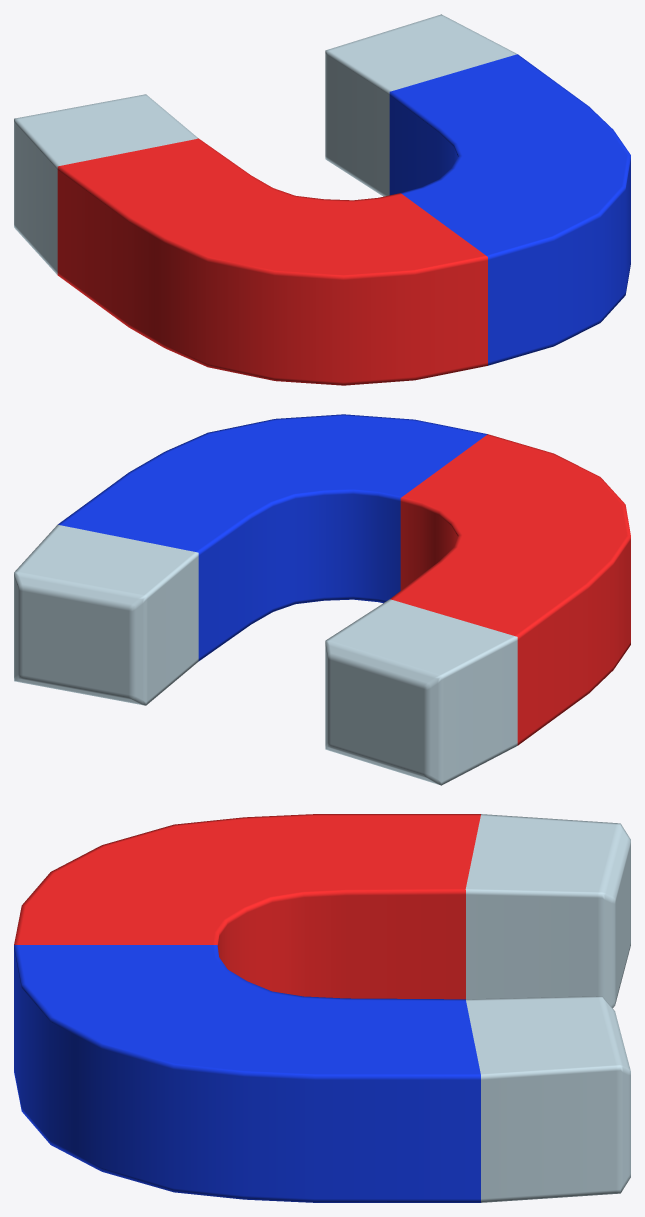
The model's file is Magnet.fbx.
3 views of the same model, one above another, from view 1: azimuth 30°, elevation 25°; view 2: azimuth 150°, elevation 25°; view 3: azimuth 270°, elevation 25° (orthographic). The views are drawn at different scales.
Visible parts, largest first — view 1: Plane002; view 2: Plane002; view 3: Plane002.
Boxes of the visible parts, x1,y1,x2,y2 form: Plane002: (14,14,630,385); Plane002: (14,414,630,785); Plane002: (14,814,630,1202).
Size of the model in its own units: 63.24 by 14.3 by 62.97.
